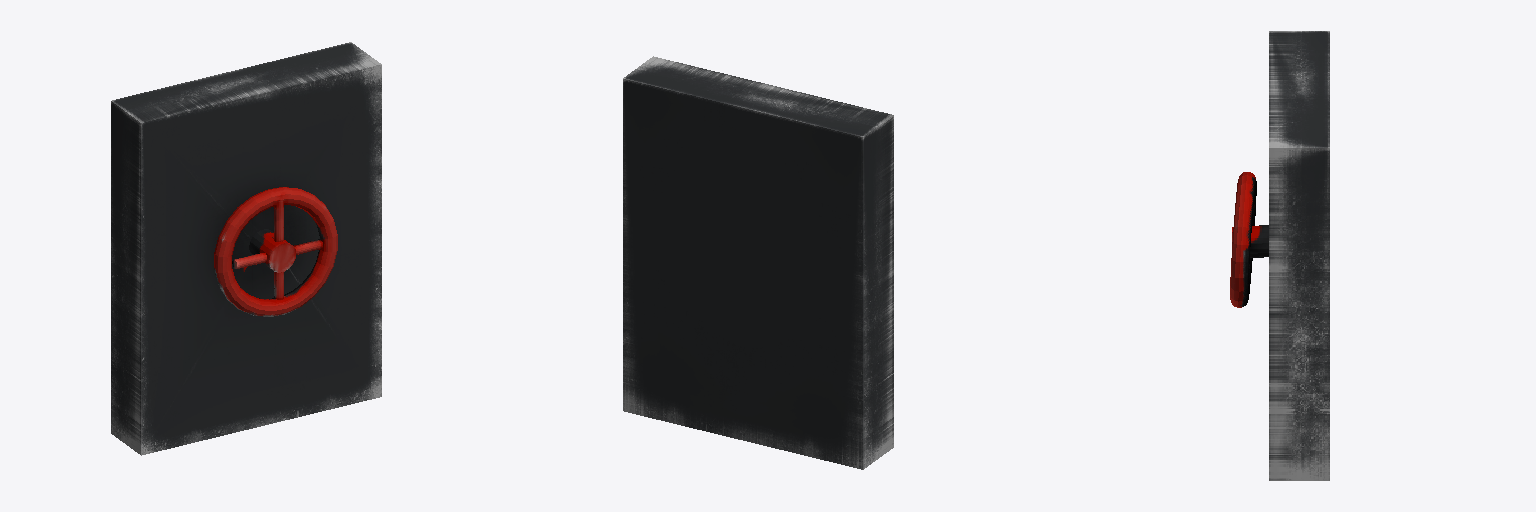
The picture shows the model from 3 angles: view 1: azimuth 30°, elevation 25°; view 2: azimuth 150°, elevation 25°; view 3: azimuth 270°, elevation 25°; orthographic projection.
Visible parts, largest first — view 1: Box001; view 2: Box001; view 3: Box001.
Part boxes in pixels (x1,y1,x2,y2): Box001: (111, 42, 381, 455); Box001: (623, 56, 893, 469); Box001: (1230, 31, 1329, 480).
Bounding box in the file's own units: 13.63 × 18 × 4.91.
1 materials, 1 textured.